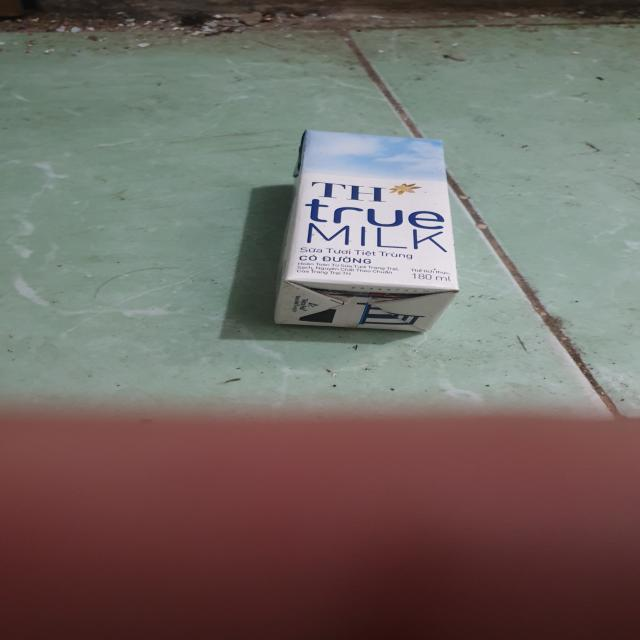TH: (270, 131, 462, 334)
